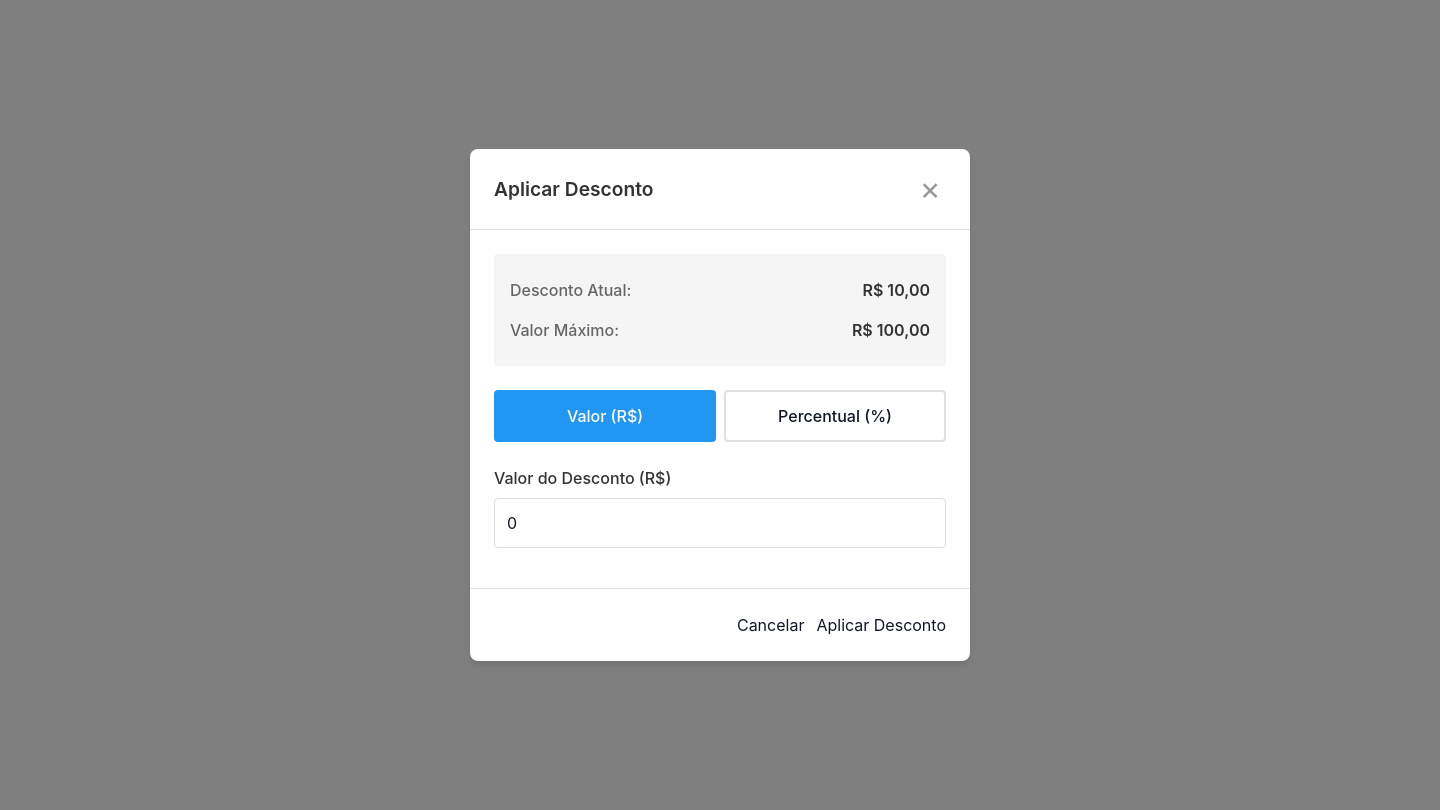
it: POSDiscountModal › Discount Calculation - Percentage Type › should calculate discount for percentage type
Click the button with class "type-button" showing "Percentual (%)".
click(835, 416)  # box [724,390,946,442]
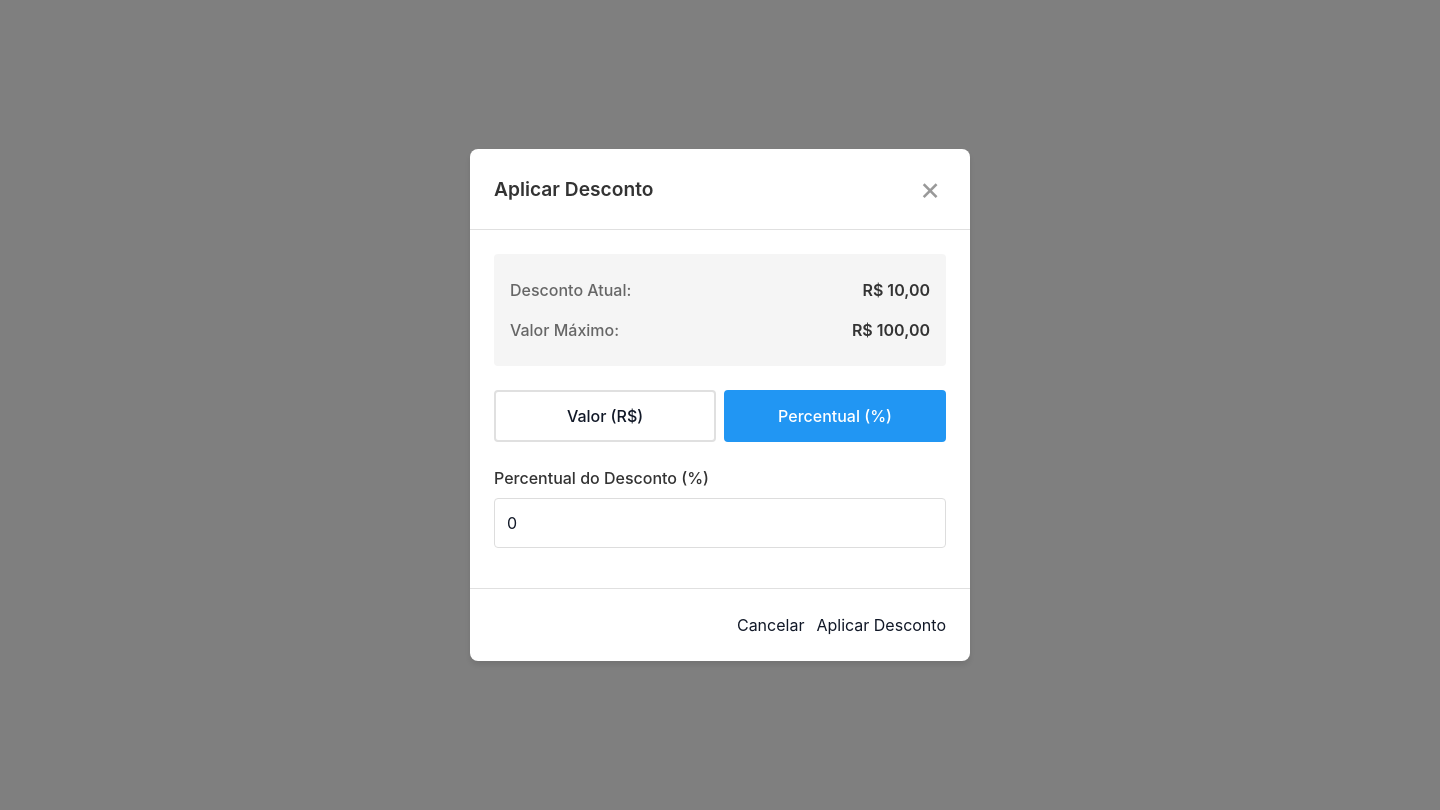
Type "10" into the number field with id "discount-input".
click(720, 523); type("10")  # box [494,498,946,548]
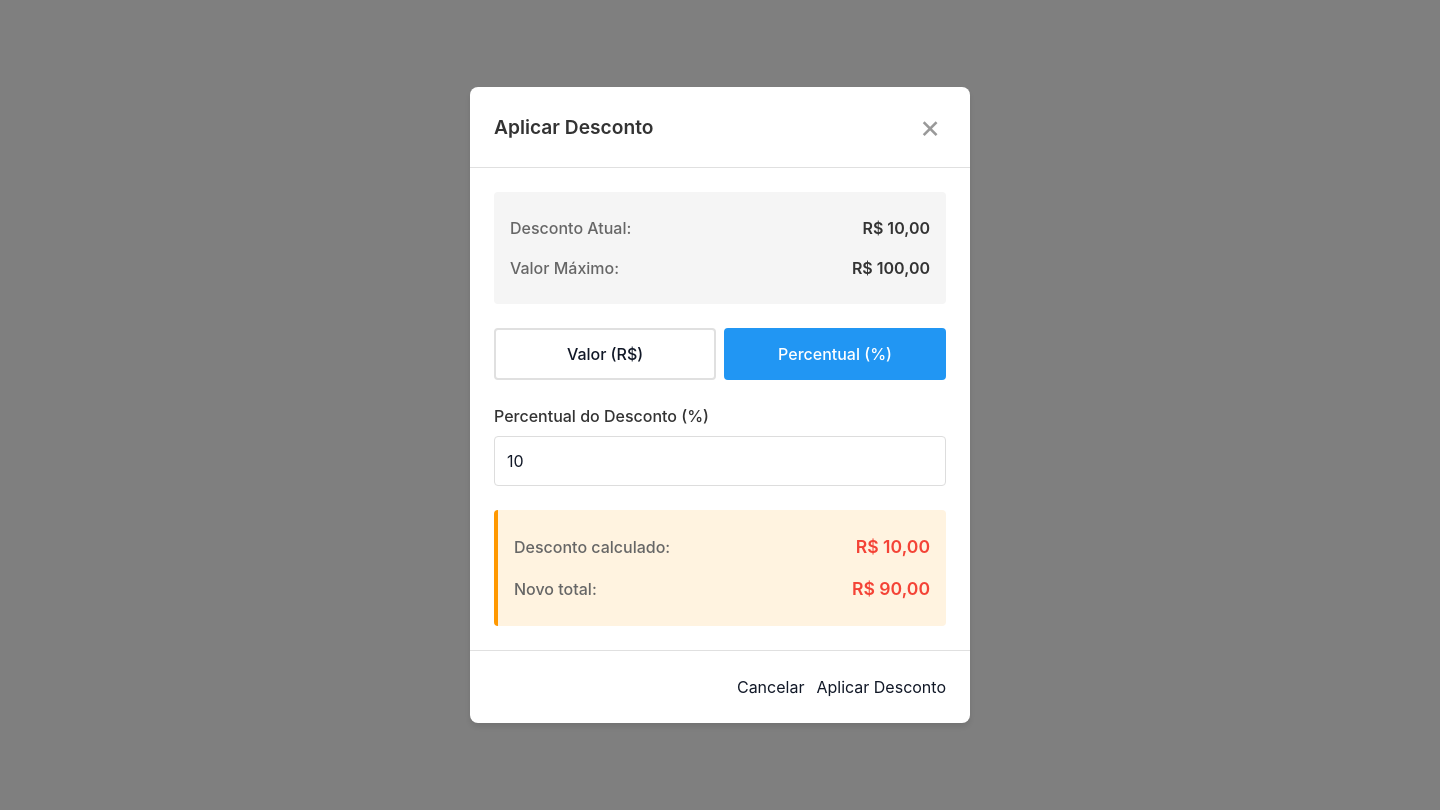
Expected: the text "10,00" is shown, [862,218,930,238]
Expected: the text "Desconto calculado:" is shown, [514,535,670,559]
